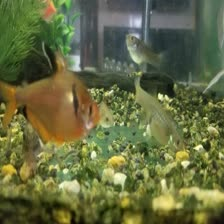Guppy: (128, 76, 194, 155), (121, 34, 180, 71), (97, 92, 120, 131)
Transparente: (1, 48, 104, 143)
